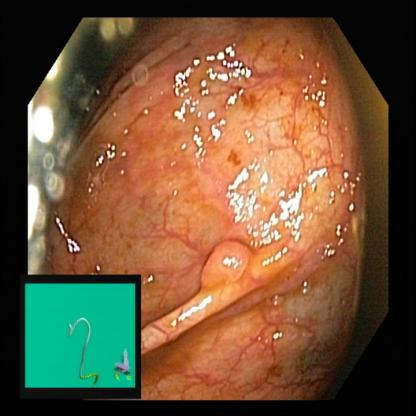Labels: (23, 275, 143, 400)
Polyps: (188, 226, 251, 296)
